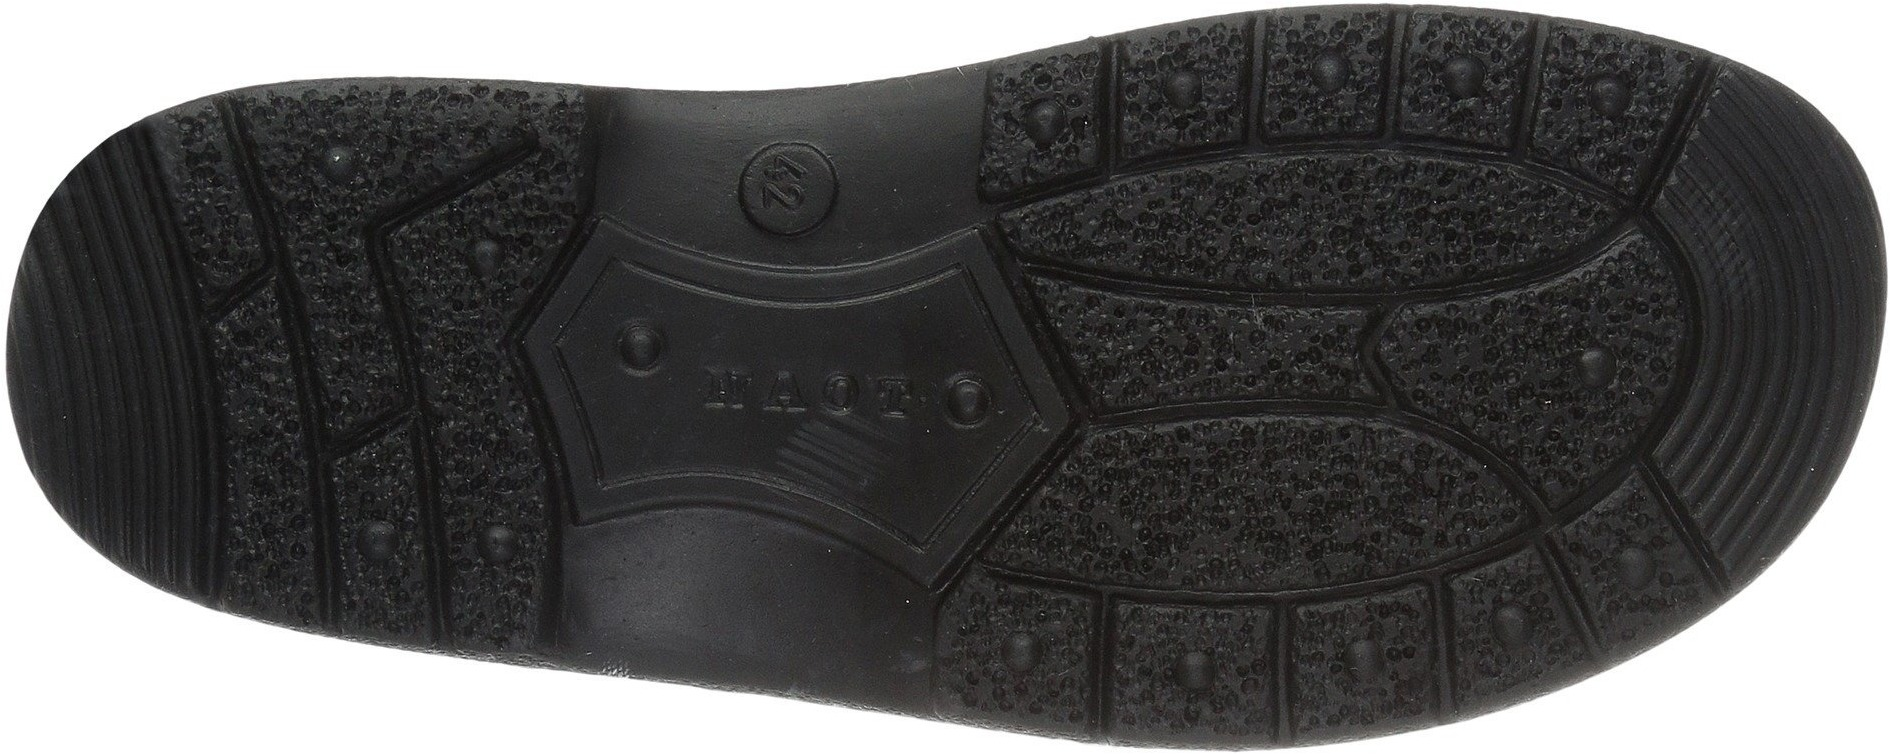circle: (1420, 520, 1606, 732), (1244, 1, 1402, 151), (720, 324, 871, 469), (732, 120, 867, 245), (601, 310, 688, 389), (823, 371, 870, 435)
line: (31, 269, 195, 464), (1707, 211, 1862, 384)
other: (659, 516, 837, 675)
quad: (1420, 520, 1606, 732), (1244, 1, 1402, 151)
text: (720, 324, 871, 469), (732, 120, 867, 245), (749, 159, 820, 224)
